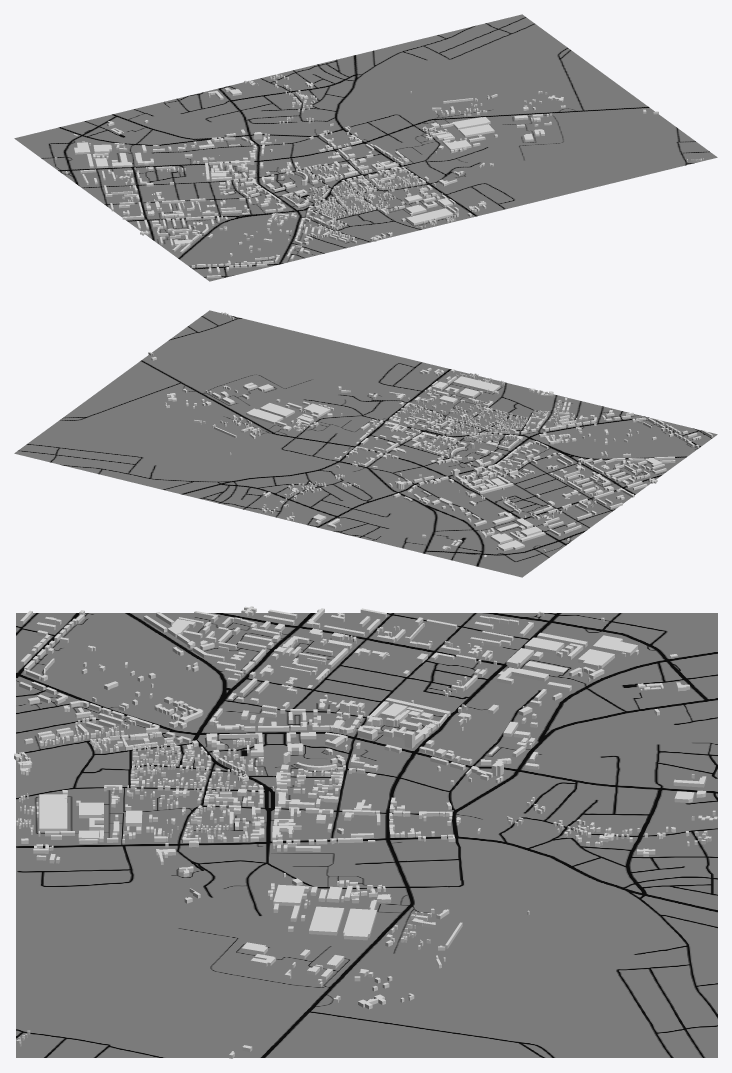
The model's file is fullmap2.glb.
3 views of the same model, one above another, from view 1: azimuth 30°, elevation 25°; view 2: azimuth 150°, elevation 25°; view 3: azimuth 270°, elevation 25° (orthographic). The views are drawn at different scales.
Visible parts, largest first — view 1: EXPORT_OSM_MAPNIK_WM, Areas:building; view 2: EXPORT_OSM_MAPNIK_WM, Areas:building; view 3: EXPORT_OSM_MAPNIK_WM, Areas:building.
Boxes of the visible parts, x1,y1,x2,y2 form: EXPORT_OSM_MAPNIK_WM: (14,14,717,281); Areas:building: (55,74,703,278); EXPORT_OSM_MAPNIK_WM: (14,310,717,577); Areas:building: (148,312,712,557); EXPORT_OSM_MAPNIK_WM: (16,613,717,1057); Areas:building: (14,606,717,1058).
Bounding box in the file's own units: 5556 × 96.77 × 3680.
18 materials, 1 textured.
